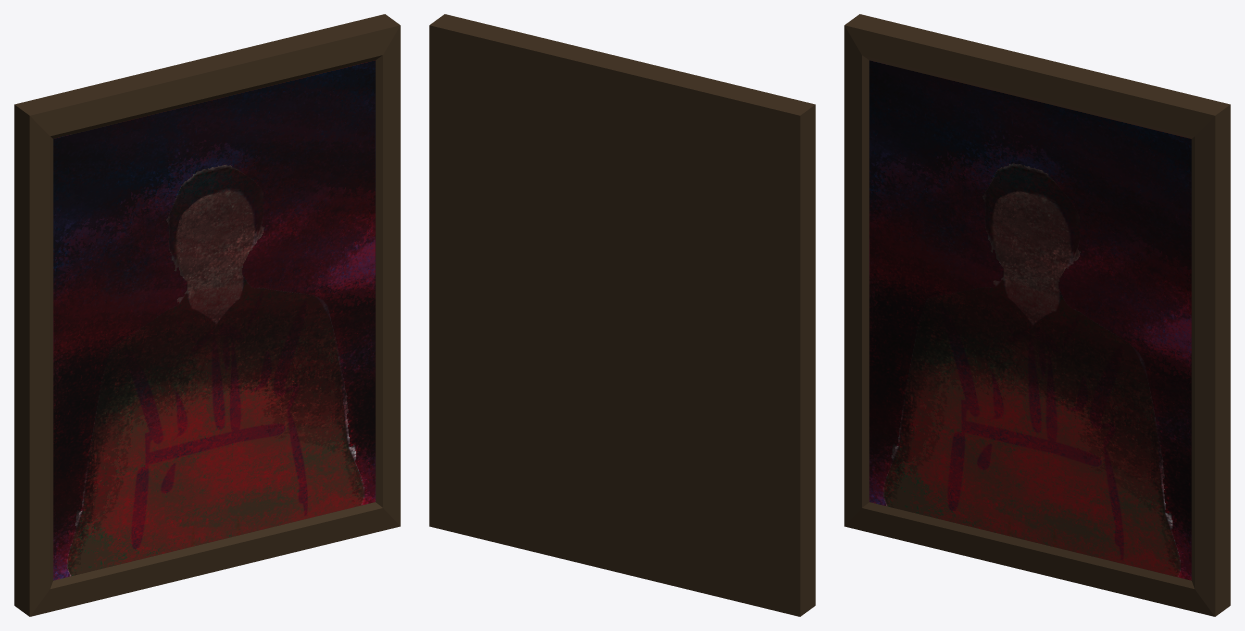
Rendered from Painting.FBX.
3 renders of one model, left to right at view 1: azimuth 30°, elevation 25°; view 2: azimuth 150°, elevation 25°; view 3: azimuth 330°, elevation 25°, orthographic.
Parts seen in each view (by area): view 1: Box001; view 2: Box001; view 3: Box001.
Part boxes in pixels (<box>): Box001: <box>14,14,400,616</box>; Box001: <box>429,14,815,616</box>; Box001: <box>844,14,1230,616</box>.
Size of the model in its own units: 69.57 by 89.86 by 5.47.
